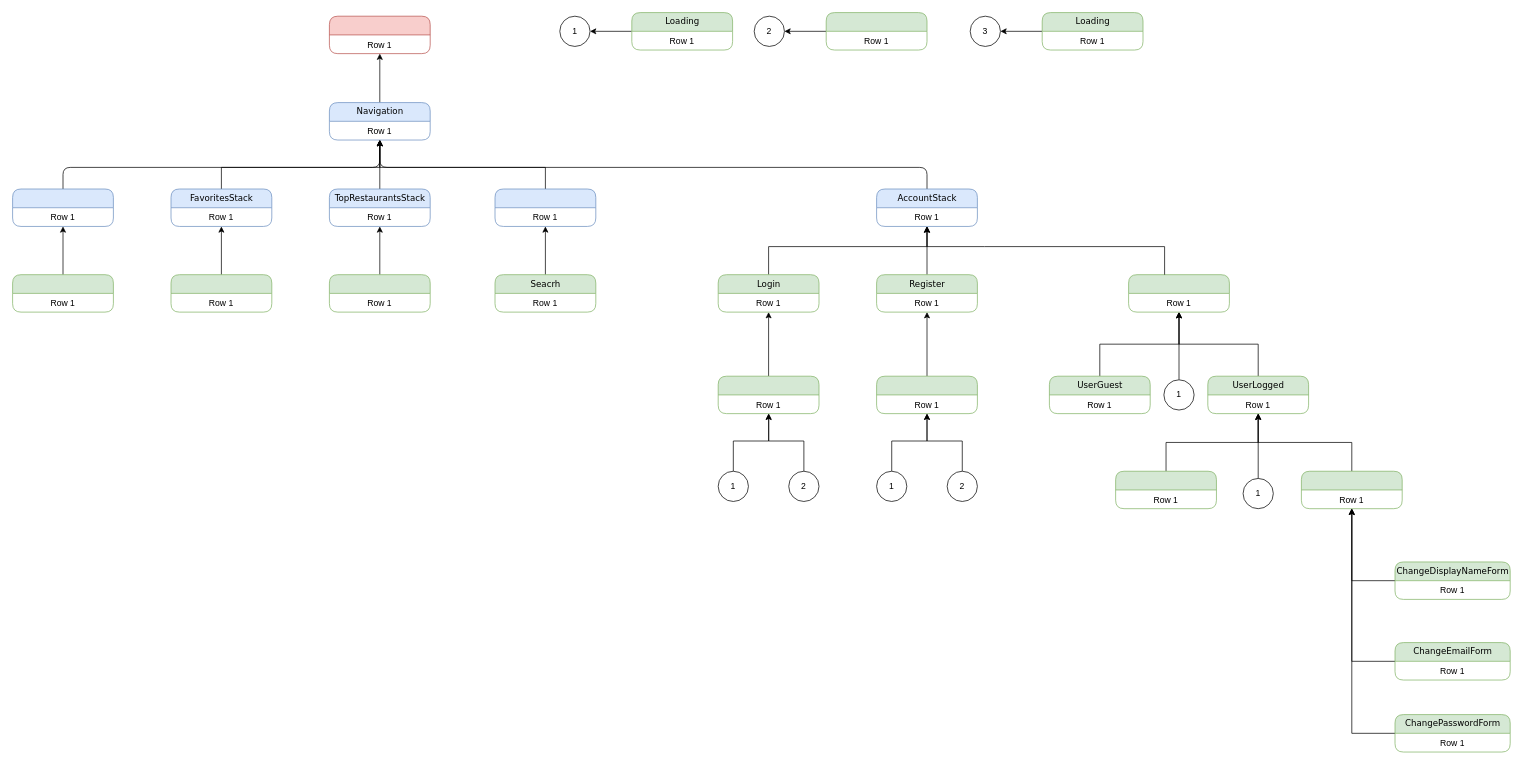
Some shapes in this 1523 by 767 pixel diagram are drawn without their labels. The shapes that lost their labels are listed below. From the top down, each one's box as (x1, y1, x2, y2) in pixels, then its label:
(329, 15, 430, 54): App
(825, 12, 927, 50): Validations
(12, 188, 113, 226): RestaurantsStack
(494, 188, 596, 226): SeacrhStack
(12, 274, 113, 312): Restaurants
(170, 274, 272, 312): Favorites
(329, 274, 430, 312): TopRestaurants
(1128, 274, 1229, 312): Account
(717, 375, 819, 414): LoguinForm
(876, 375, 977, 414): RegisterForm
(1115, 471, 1216, 509): infoUser
(1301, 471, 1402, 509): AccountOptions
